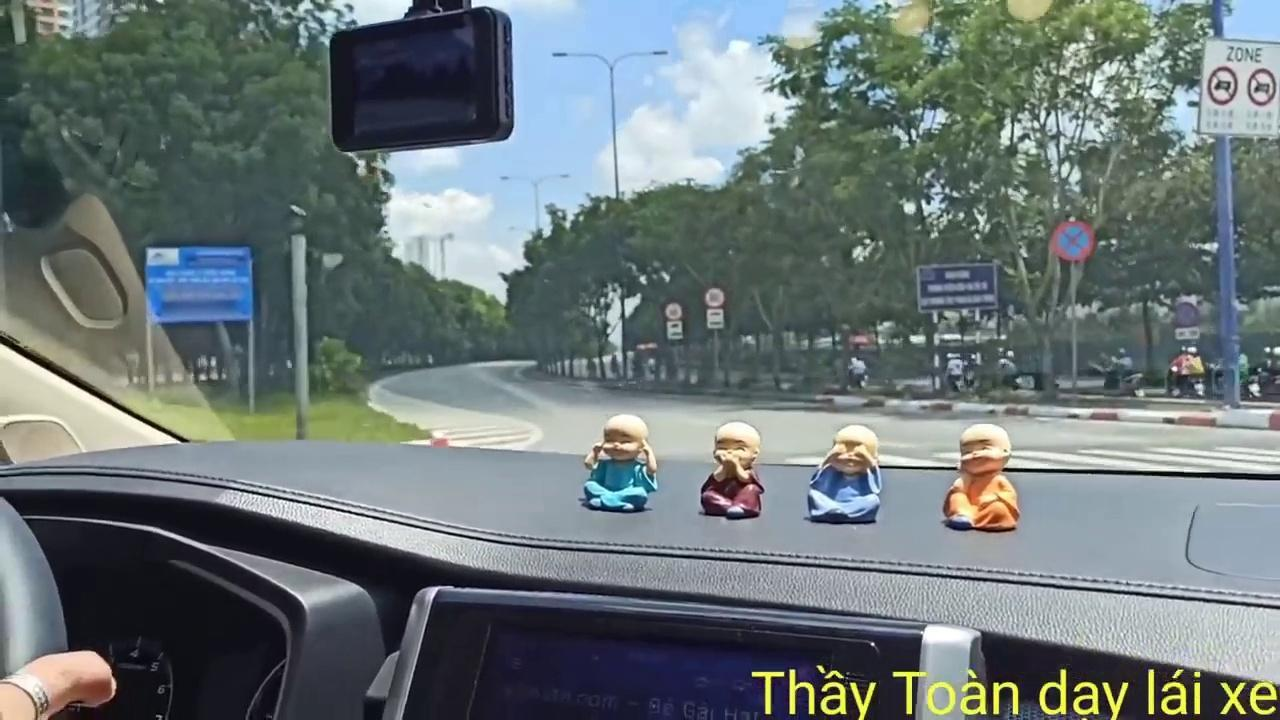Biển phụ: (707, 309, 724, 330), (667, 320, 683, 340)
Cấm cac phương tiện hoạt động trong khung giờ cố định: (1201, 36, 1277, 139)
Cấm dừng - Cấm đỗ: (1050, 215, 1097, 265)
Khác: (142, 242, 253, 324)
